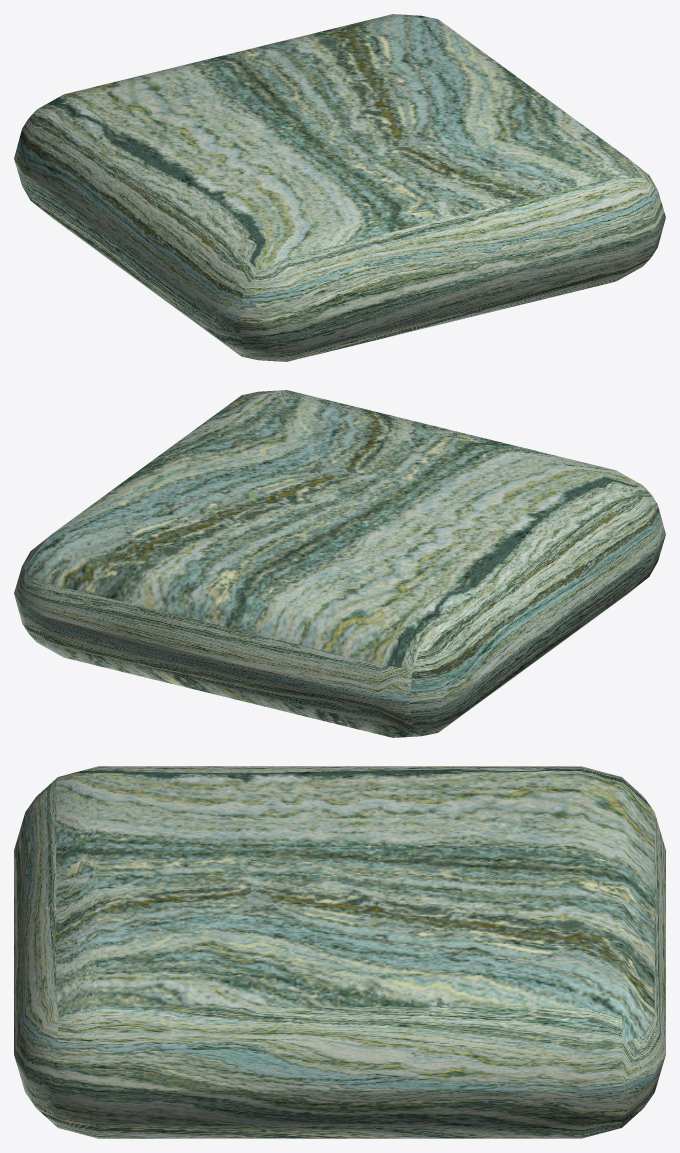
File: untitledZenStoneSquere.fbx
3 views of the same model, one above another, from view 1: azimuth 30°, elevation 25°; view 2: azimuth 150°, elevation 25°; view 3: azimuth 270°, elevation 25° (orthographic). The views are drawn at different scales.
Visible parts, largest first — view 1: squereStone; view 2: squereStone; view 3: squereStone.
Boxes of the visible parts, left/top/right/bottom form: squereStone: left=14, top=14, right=665, bottom=361; squereStone: left=14, top=390, right=665, bottom=737; squereStone: left=14, top=766, right=665, bottom=1138.
Bounding box in the file's own units: 15.4 × 3.98 × 15.4.
Materials: 1 (1 with a texture image).
